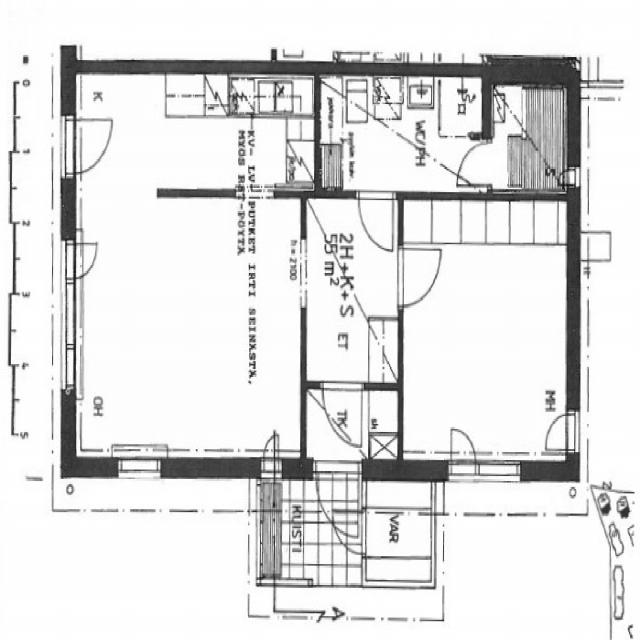door: (316, 461, 358, 542), (323, 381, 362, 446), (398, 248, 442, 305), (359, 190, 393, 248), (332, 511, 366, 555), (458, 143, 492, 185)
